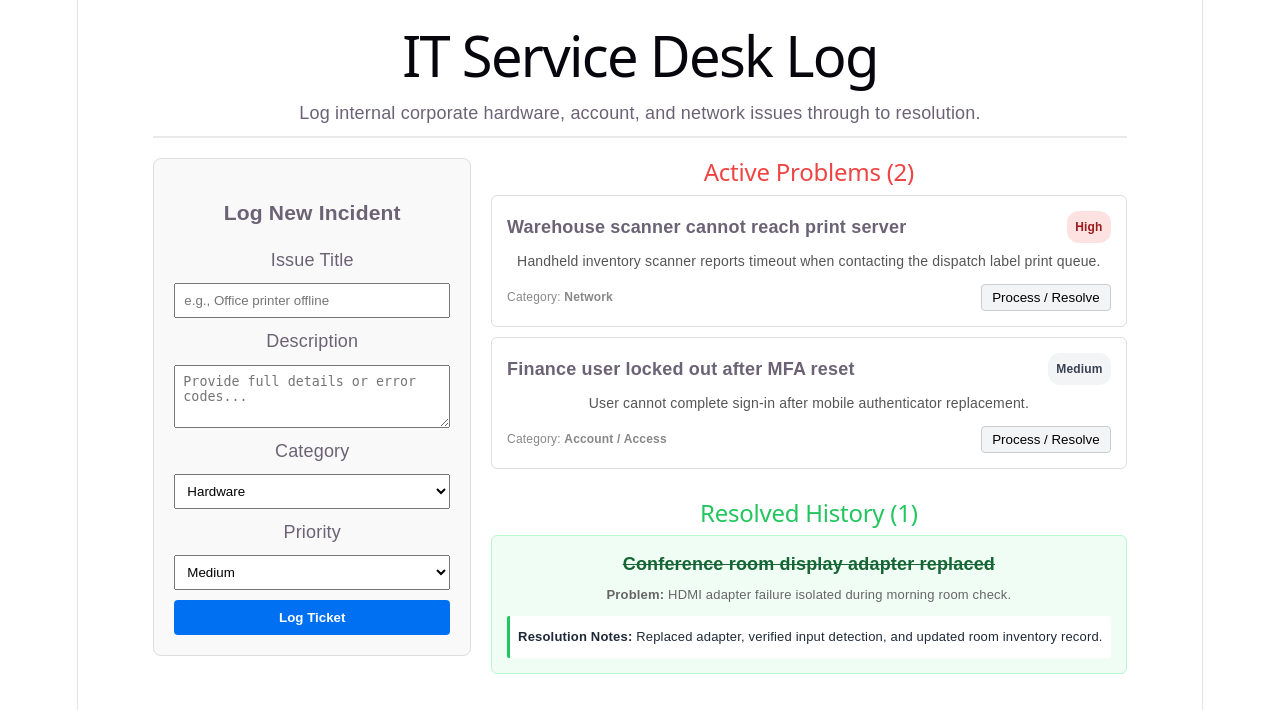
it: IT Ticket Dashboard › clicking resolve on an active ticket reveals the resolution workbench
The image size is (1280, 710).
Check: the heading "Warehouse scanner cannot reach print server" is shown, box [507,214,906,240]
Click the button "Process / Resolve" below "High": (1046, 297) [981,284,1111,311]
(page scrolled)
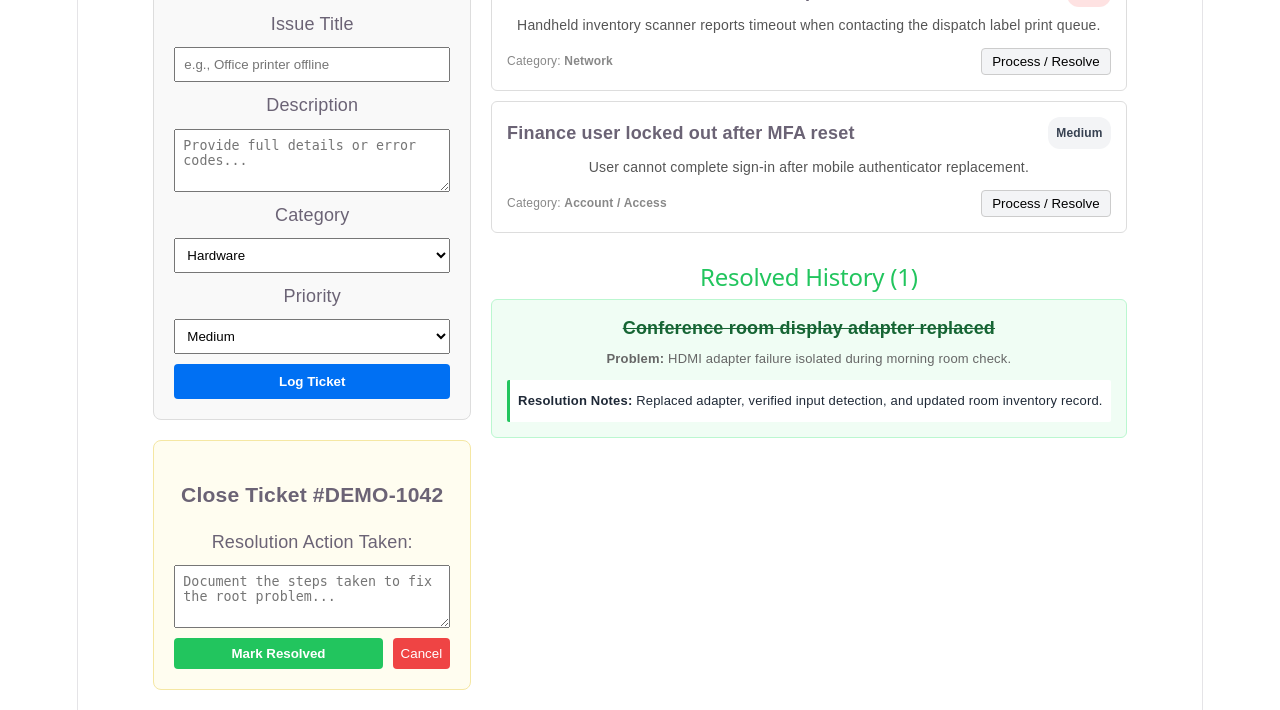
Check: the text box with placeholder "Document the steps taken to fix the root problem..." is shown, box [174,565,450,628]
